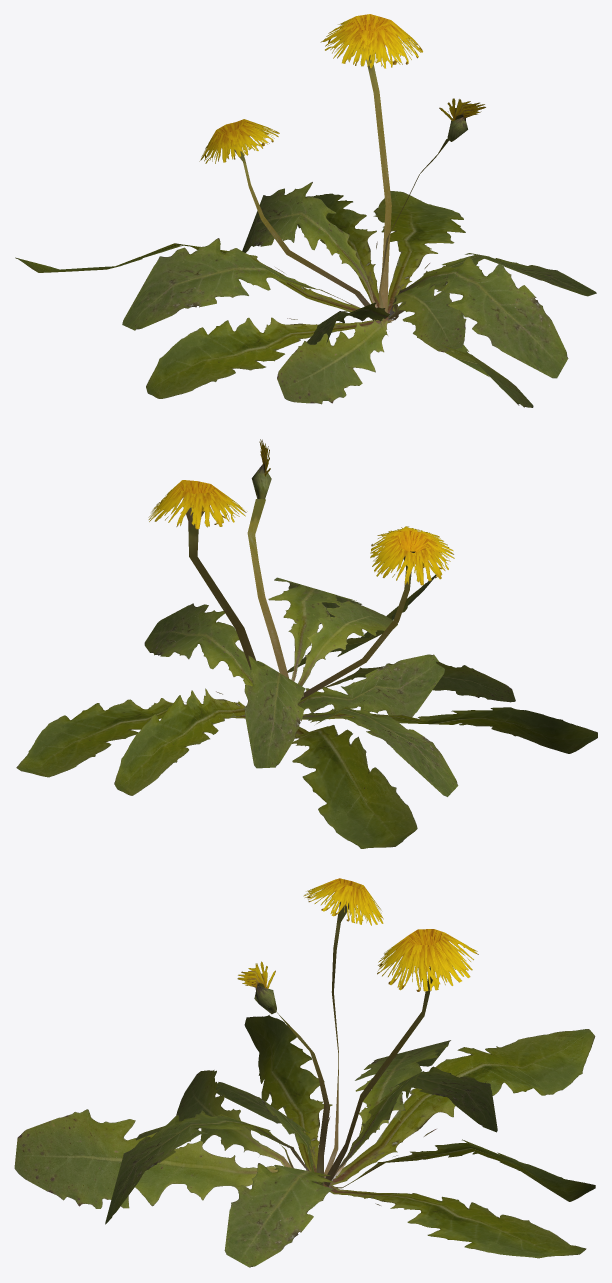
The model's file is dandelion_01_b.gltf.
The picture shows the model from 3 angles, top to bottom: view 1: azimuth 30°, elevation 25°; view 2: azimuth 150°, elevation 25°; view 3: azimuth 270°, elevation 25°; orthographic projection. The views are drawn at different scales.
Visible parts, largest first — view 1: dandelion_01_b__x; view 2: dandelion_01_b__x; view 3: dandelion_01_b__x.
Boxes of the visible parts, x1,y1,x2,y2 form: dandelion_01_b__x: (15,14,596,407); dandelion_01_b__x: (16,439,597,848); dandelion_01_b__x: (14,878,595,1267).
Size of the model in its own units: 0.1973 by 0.1121 by 0.2115.
1 material, 1 textured.
